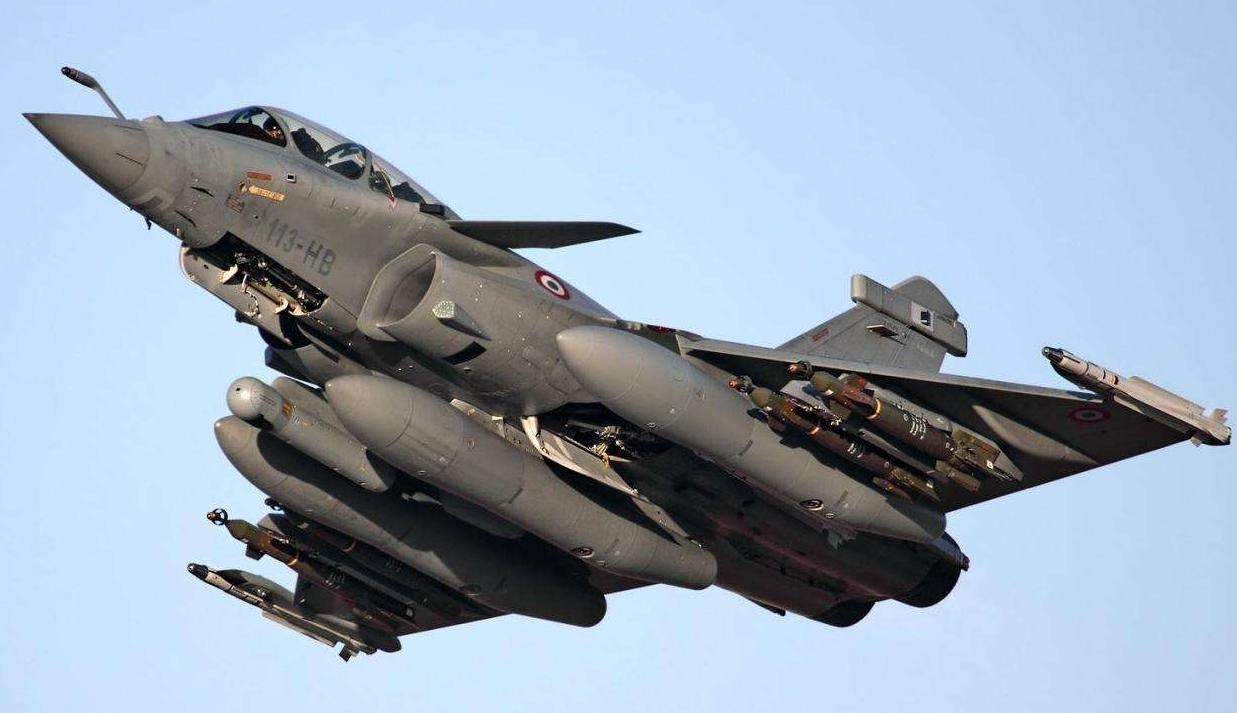airplane: (12, 59, 1237, 655)
